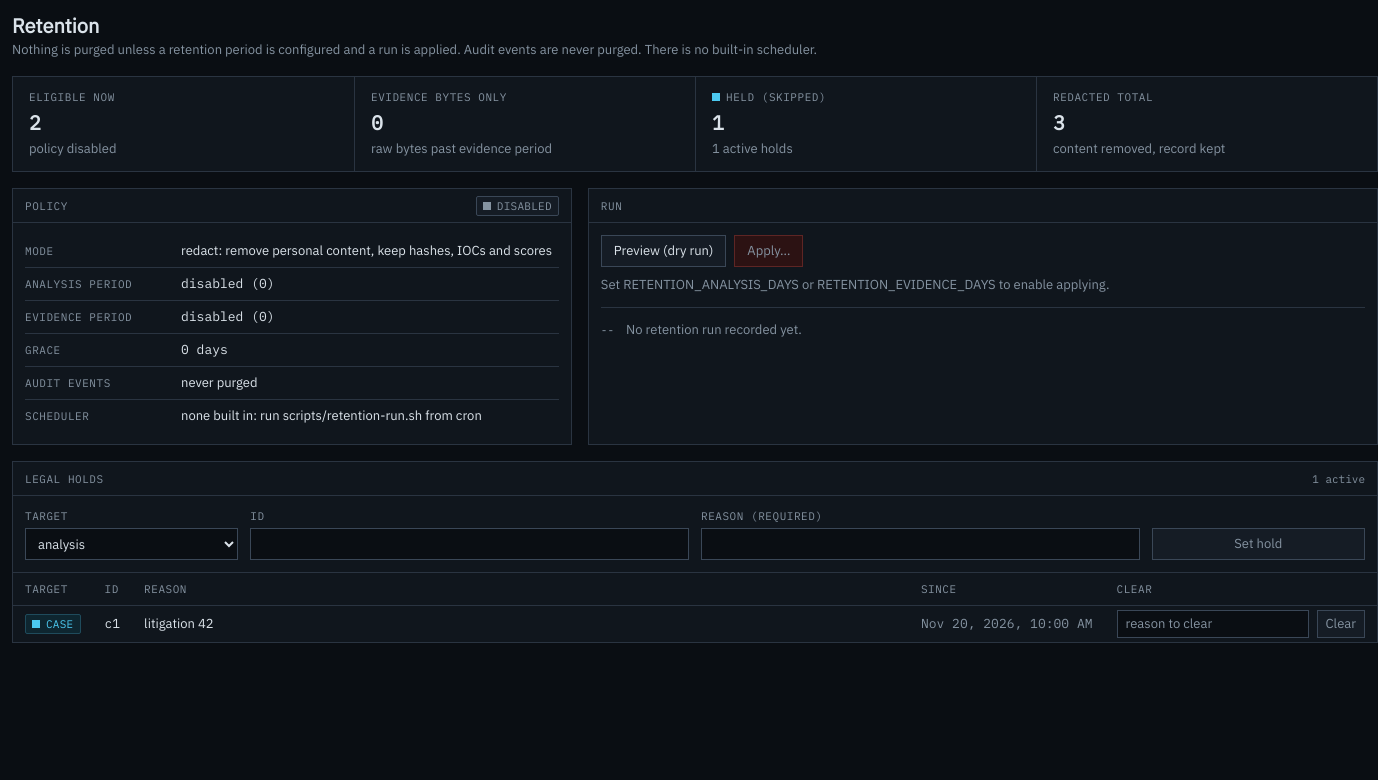
Test: Retention page › disabled policy: apply stays disabled and explains how to enable
The image size is (1378, 780).
Expected: the text "Set RETENTION_ANALYSIS_DAYS" is shown, top-left (601, 276), bottom-right (1109, 293)
Click the button "Preview (dry run)".
click(664, 251)  # box top-left (601, 235), bottom-right (726, 267)
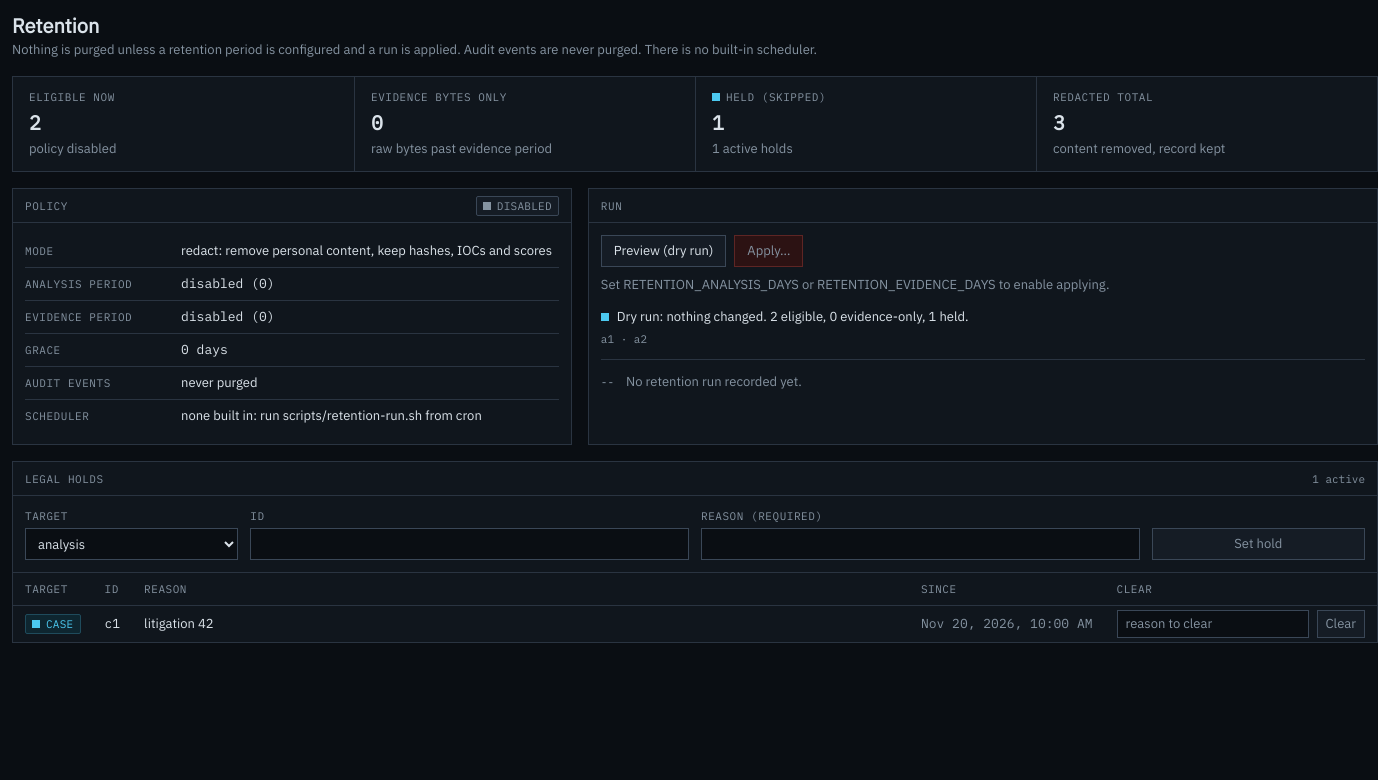
Expected: the button "Apply…" is disabled, top-left (734, 235), bottom-right (803, 267)
Expected: the element with test id "retention-preview" is shown, top-left (601, 308), bottom-right (968, 346)
